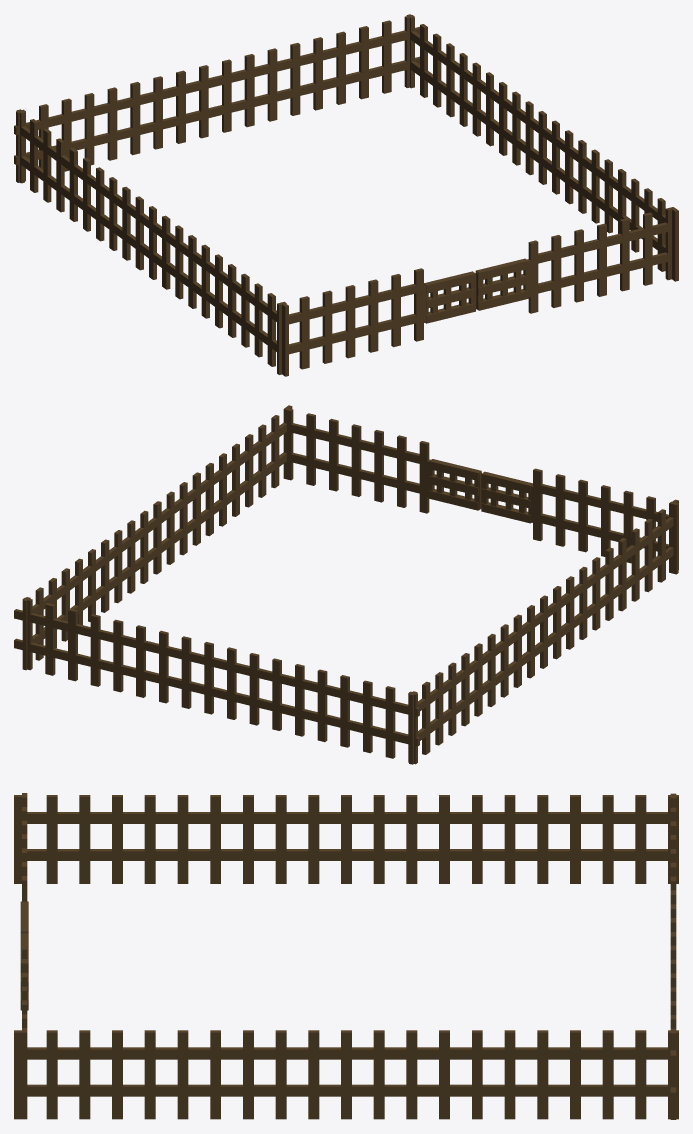
Rendered from fence_rectangle.fbx.
3 renders of one model, top to bottom at view 1: azimuth 30°, elevation 25°; view 2: azimuth 150°, elevation 25°; view 3: azimuth 270°, elevation 25°, orthographic. The views are drawn at different scales.
Parts seen in each view (by area): view 1: fence, rightGate, leftGate; view 2: fence, rightGate, leftGate; view 3: fence.
Boxes of the visible parts, x1=… form: fence: x1=14, y1=14, x2=678, y2=376; rightGate: x1=475, y1=258, x2=530, y2=310; leftGate: x1=423, y1=271, x2=476, y2=323; fence: x1=14, y1=405, x2=678, y2=764; rightGate: x1=427, y1=459, x2=481, y2=510; leftGate: x1=481, y1=471, x2=533, y2=523; fence: x1=14, y1=793, x2=678, y2=1119.
Size of the model in its own units: 898 by 147 by 1025.
